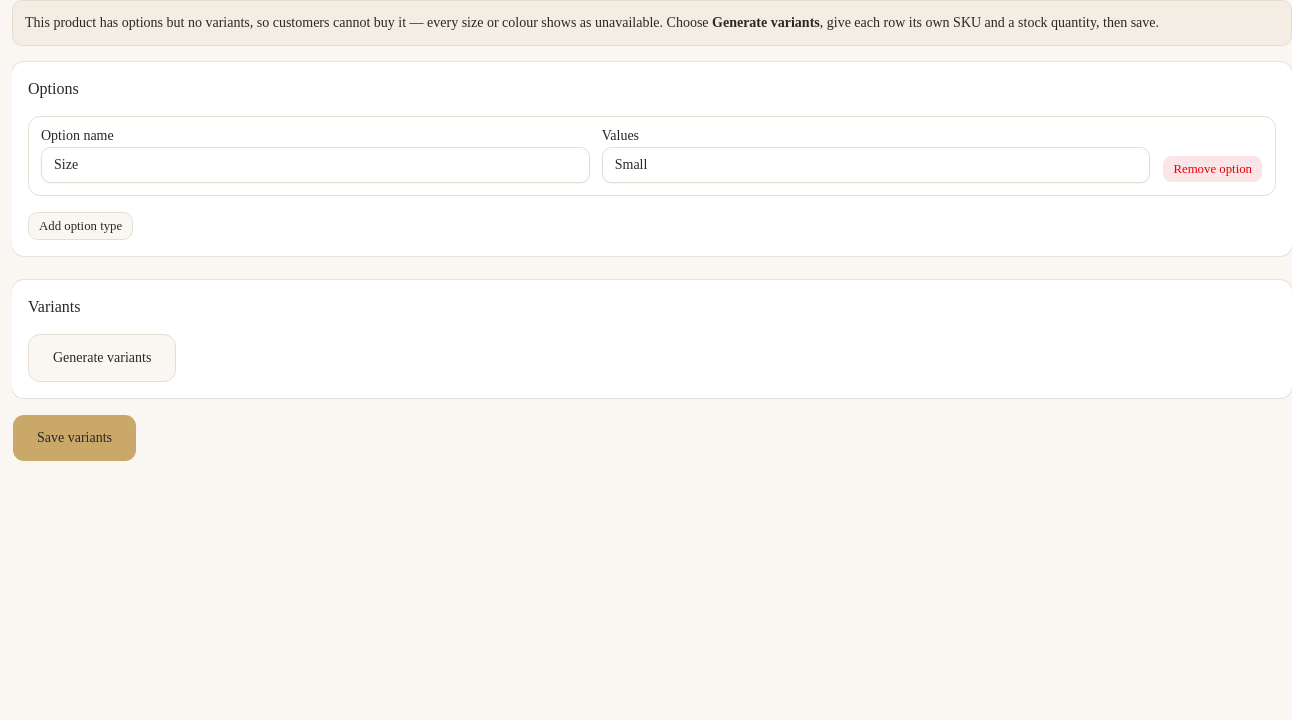
VariantStructurePanel — explaining failures › translates a server field issue into the offending row and field
Click the button "Generate variants". click: (102, 358)
box: 28,334 -> 176,382
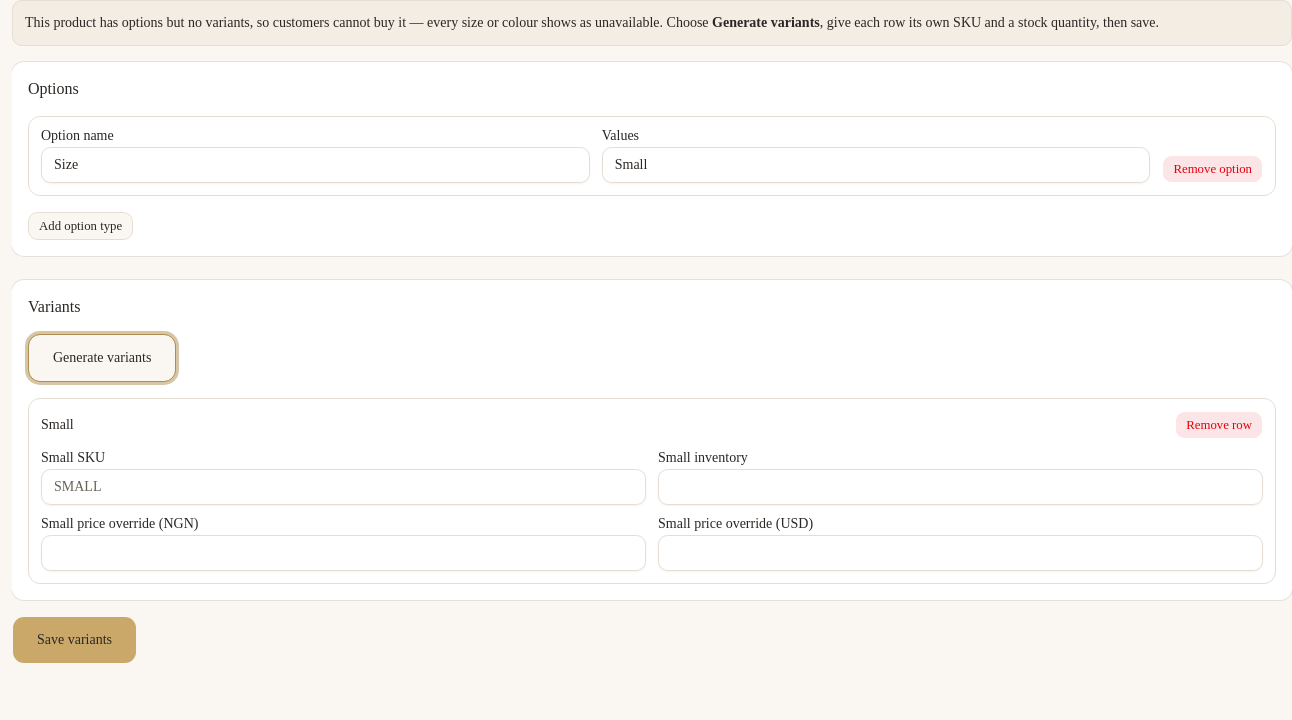
Type "MSE-RNG-002-S2" into the field labelled "Small SKU". click: (344, 487)
box: 41,469 -> 646,505
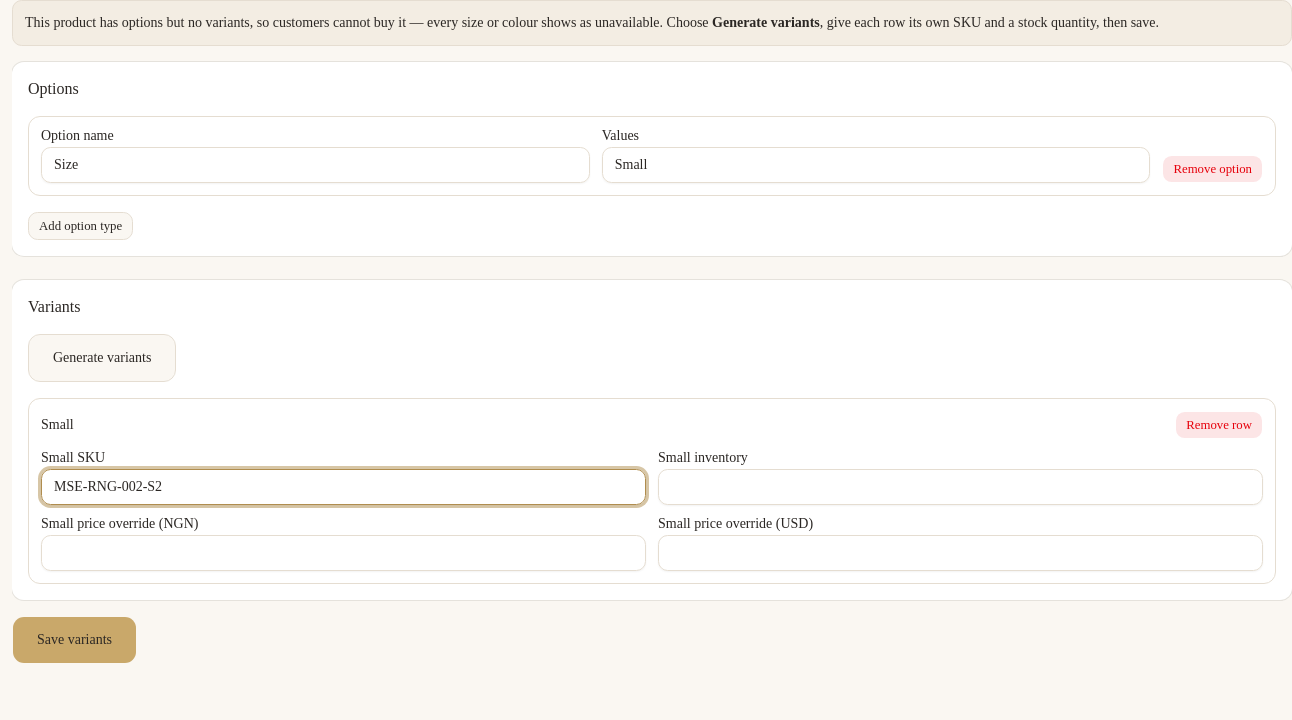
Click the button "Save variants". click: (74, 640)
box: 12,616 -> 137,664
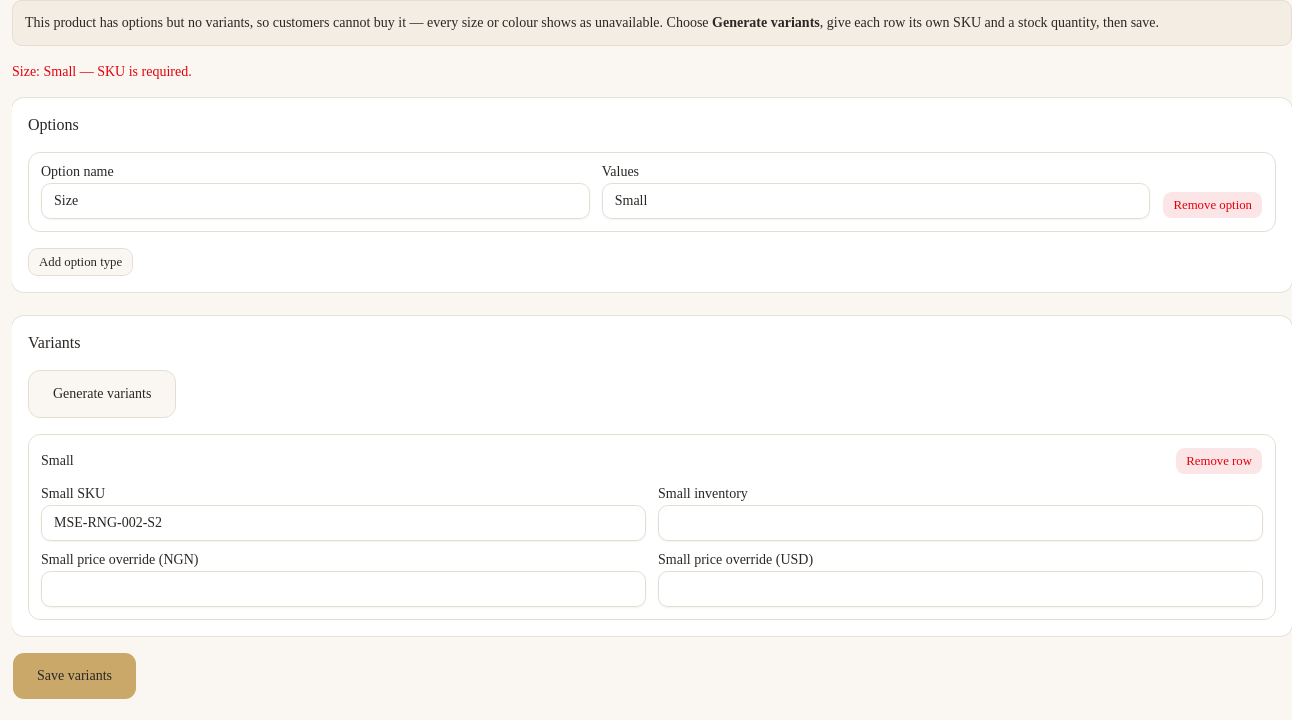
Check: the message "Size: Small — SKU is required." is shown, box 12,64 -> 192,79
